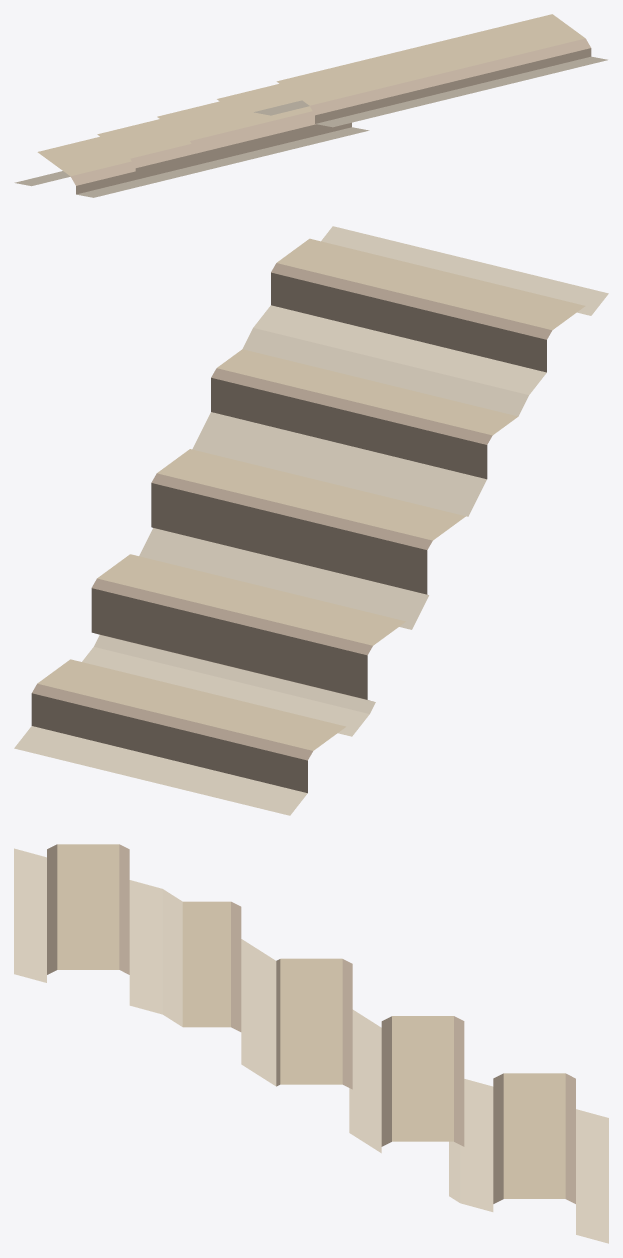
Rendered from Hilly_Terrain_Path_Hill_Sharp_Steps_Center.glb.
The picture shows the model from 3 angles, top to bottom: view 1: azimuth 30°, elevation 25°; view 2: azimuth 150°, elevation 25°; view 3: azimuth 270°, elevation 25°; orthographic projection. The views are drawn at different scales.
Parts seen in each view (by area): view 1: Hilly_Terrain_Path_Hill_Sharp_Steps_Center; view 2: Hilly_Terrain_Path_Hill_Sharp_Steps_Center; view 3: Hilly_Terrain_Path_Hill_Sharp_Steps_Center.
Boxes of the visible parts, box(x1,y1,x2,y2) form: Hilly_Terrain_Path_Hill_Sharp_Steps_Center: box(14, 14, 607, 197); Hilly_Terrain_Path_Hill_Sharp_Steps_Center: box(14, 226, 608, 815); Hilly_Terrain_Path_Hill_Sharp_Steps_Center: box(14, 844, 608, 1243).
Bounding box in the file's own units: 1 × 1.02 × 2.
